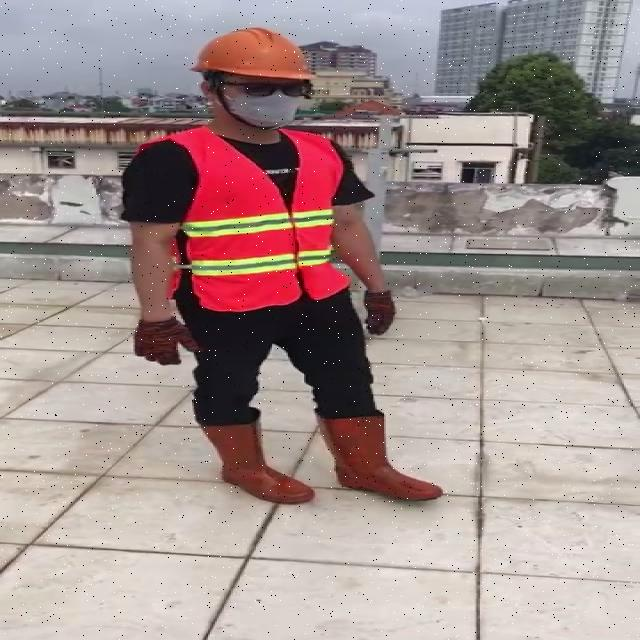Hard_hat: (186, 21, 323, 91)
Person: (105, 12, 445, 517)
Vest: (179, 124, 343, 315)
